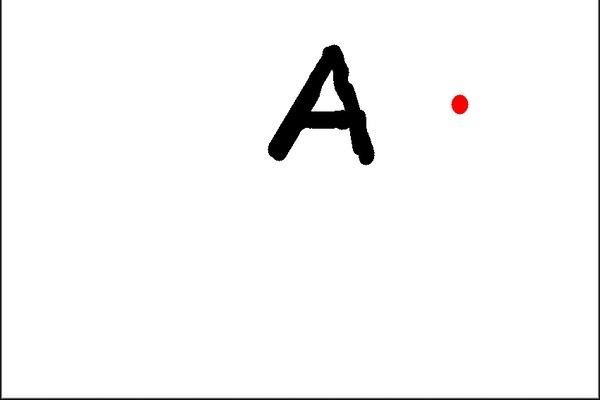A: (255, 39, 379, 175)
